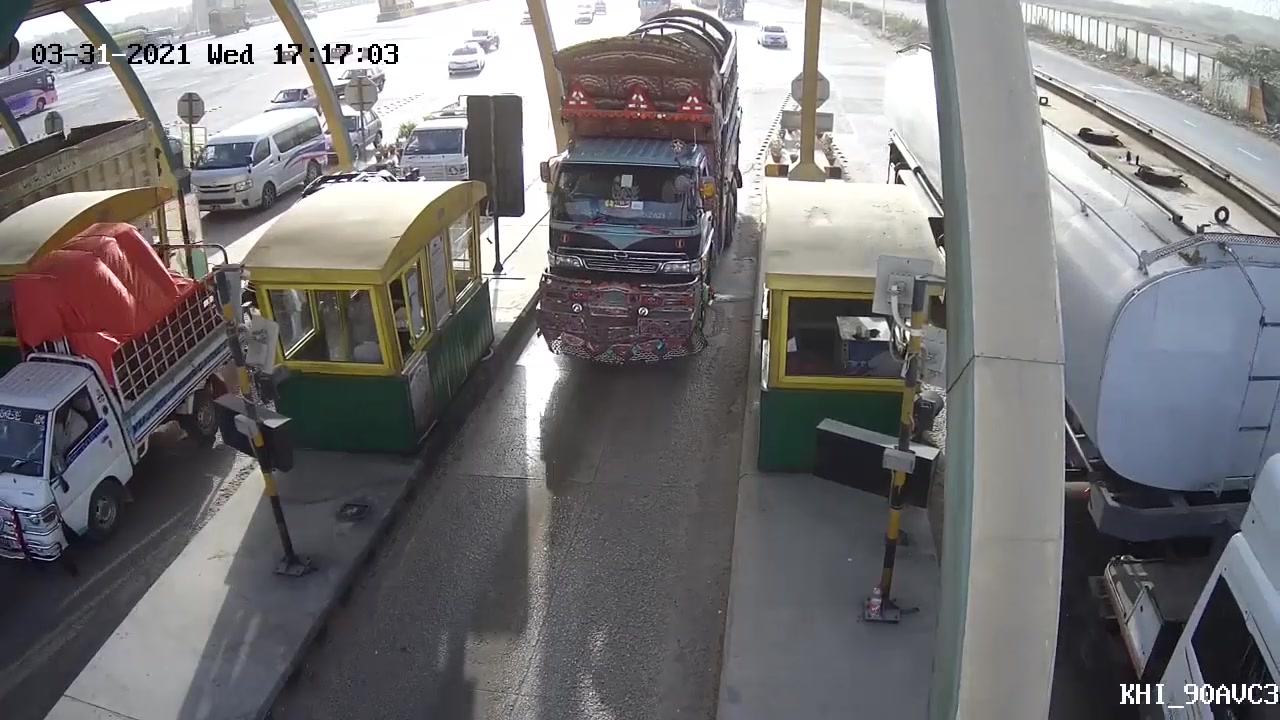F5: (524, 1, 757, 365)
